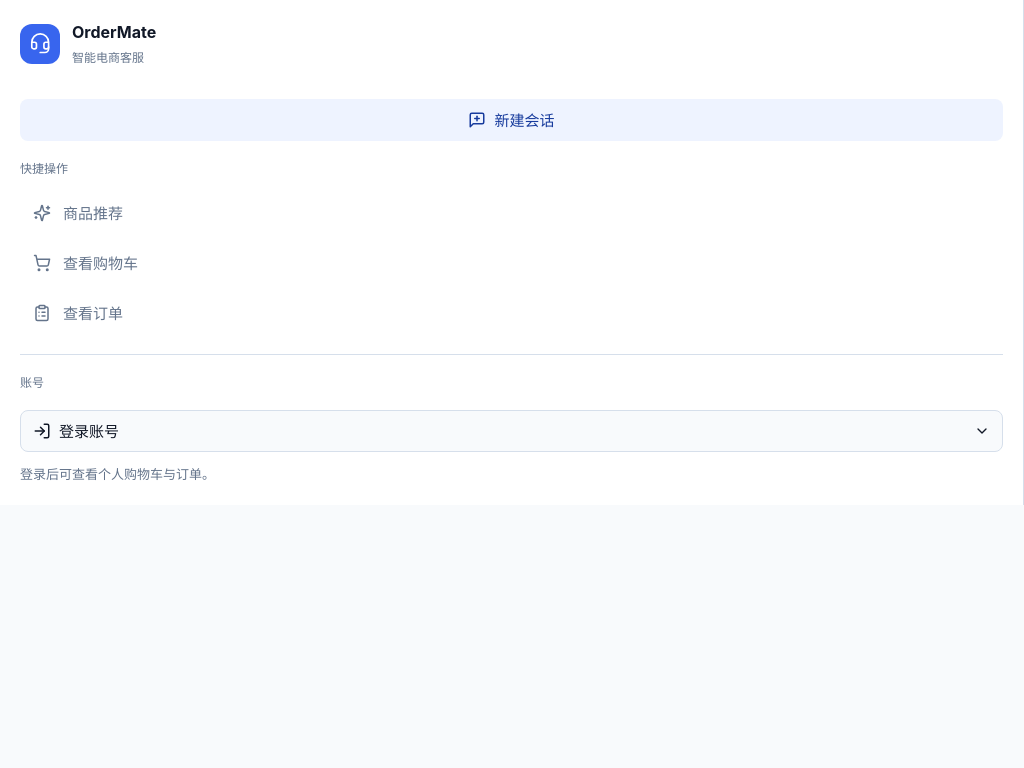
Test case: AppSidebar › opens the login panel on demand without publishing credentials
Click the button with class "account-entry": (89, 431) [20,410,1003,452]
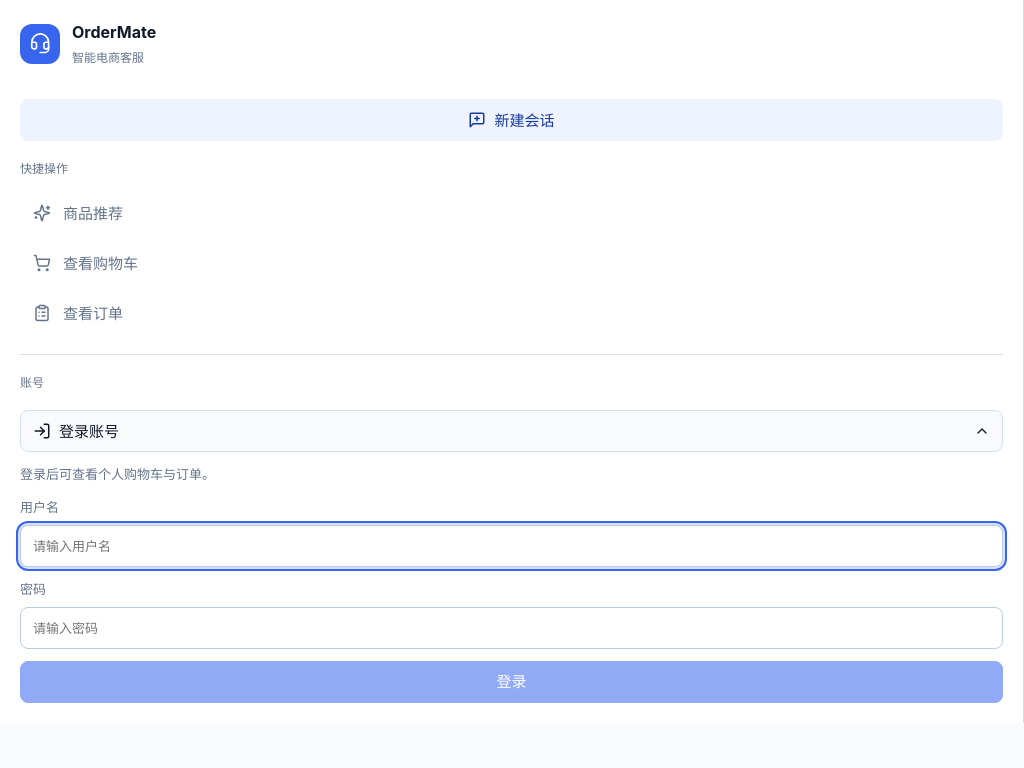
expect the button with class "account-entry" is expanded: met, box [20,410,1003,452]
